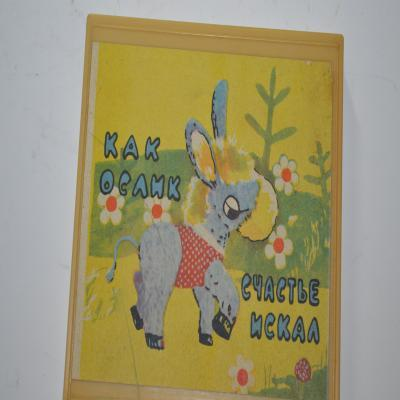technique: (65, 14, 344, 400)
